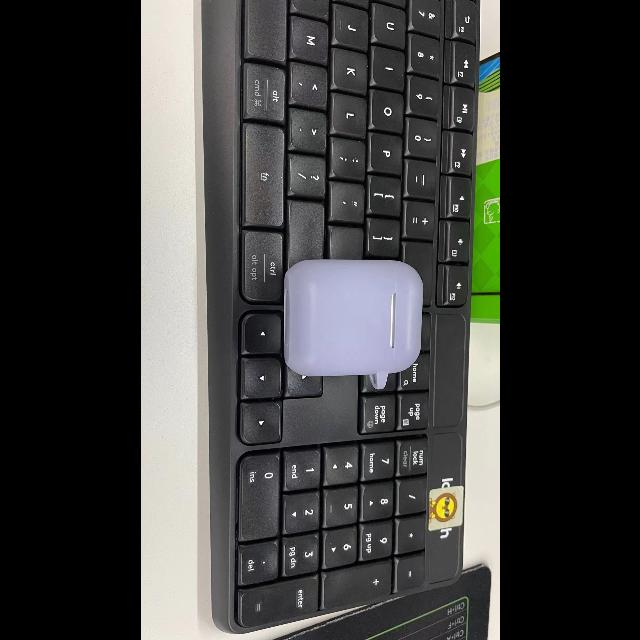airpods: (283, 255, 425, 391)
